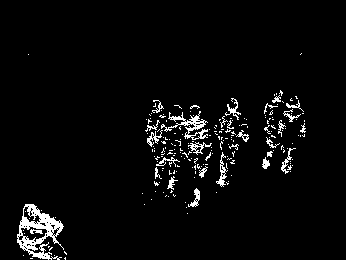person: (213, 97, 251, 187), (182, 104, 212, 209), (14, 202, 67, 260), (160, 104, 189, 198), (261, 87, 290, 170), (143, 98, 170, 185), (277, 95, 306, 173)
